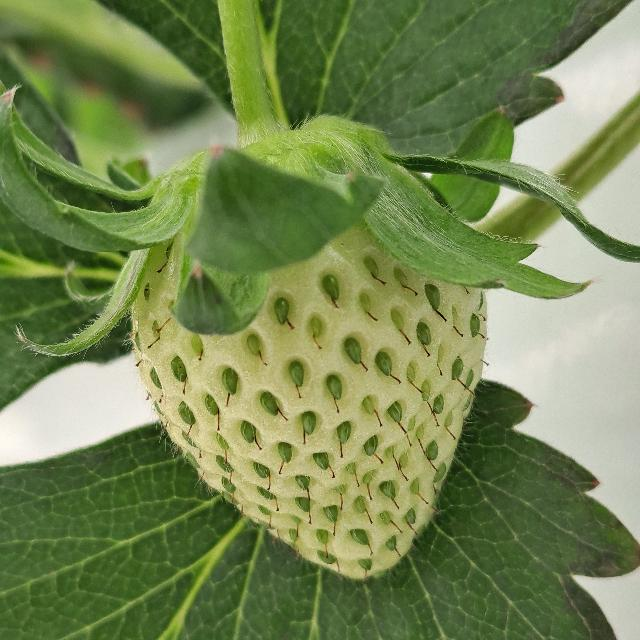Health_25: (132, 219, 486, 579)
